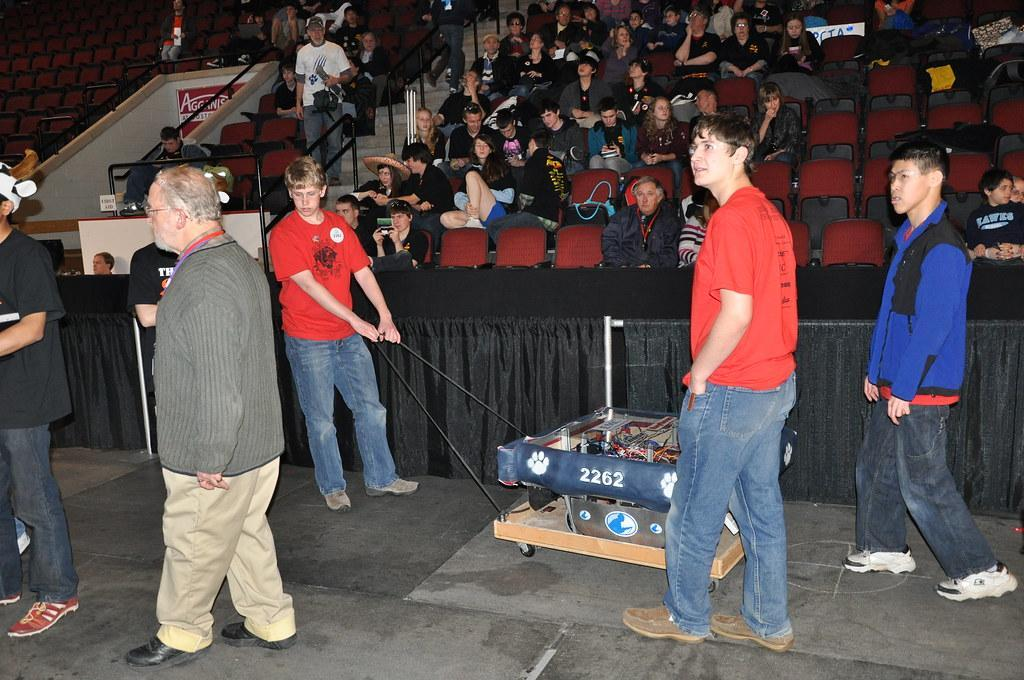robot: (490, 403, 802, 490)
